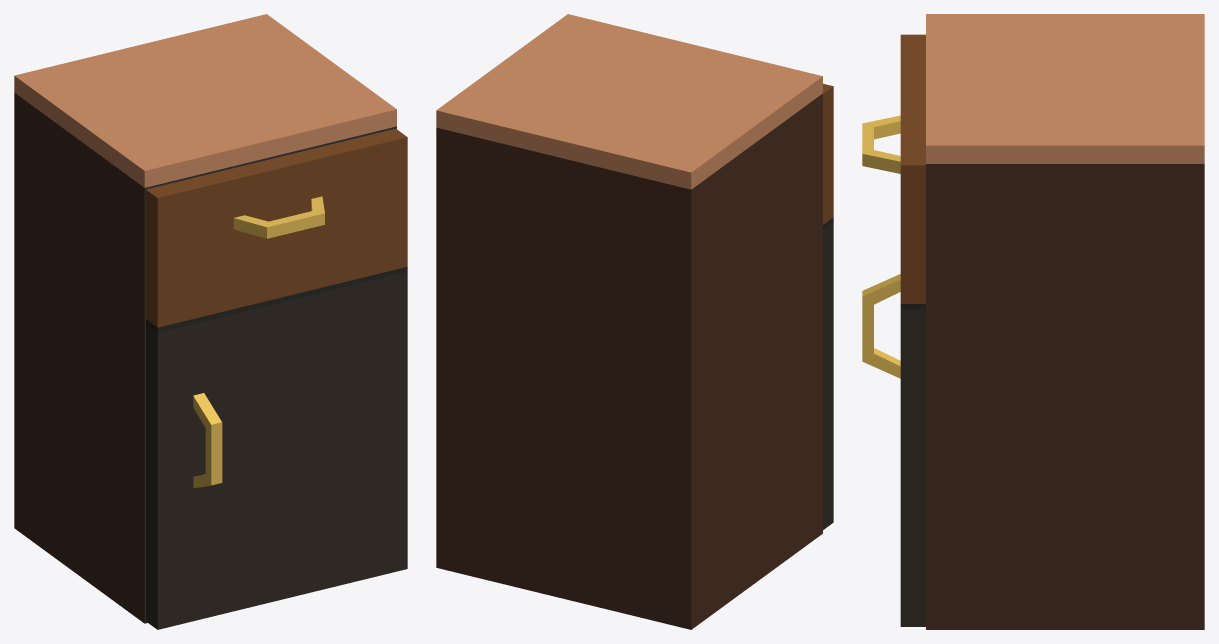
Rendered from Kitchen_Cabinet_3B.fbx.
3 renders of one model, left to right at view 1: azimuth 30°, elevation 25°; view 2: azimuth 150°, elevation 25°; view 3: azimuth 270°, elevation 25°, orthographic. The views are drawn at different scales.
Parts seen in each view (by area): view 1: polySurface1777; view 2: polySurface1777; view 3: polySurface1777.
Boxes of the visible parts, x1,y1,x2,y2 form: polySurface1777: (14, 14, 407, 629); polySurface1777: (436, 14, 833, 629); polySurface1777: (862, 14, 1204, 629).
Size of the model in its own units: 0.7792 by 1.34 by 0.8565.
Materials: 1 (1 with a texture image).
